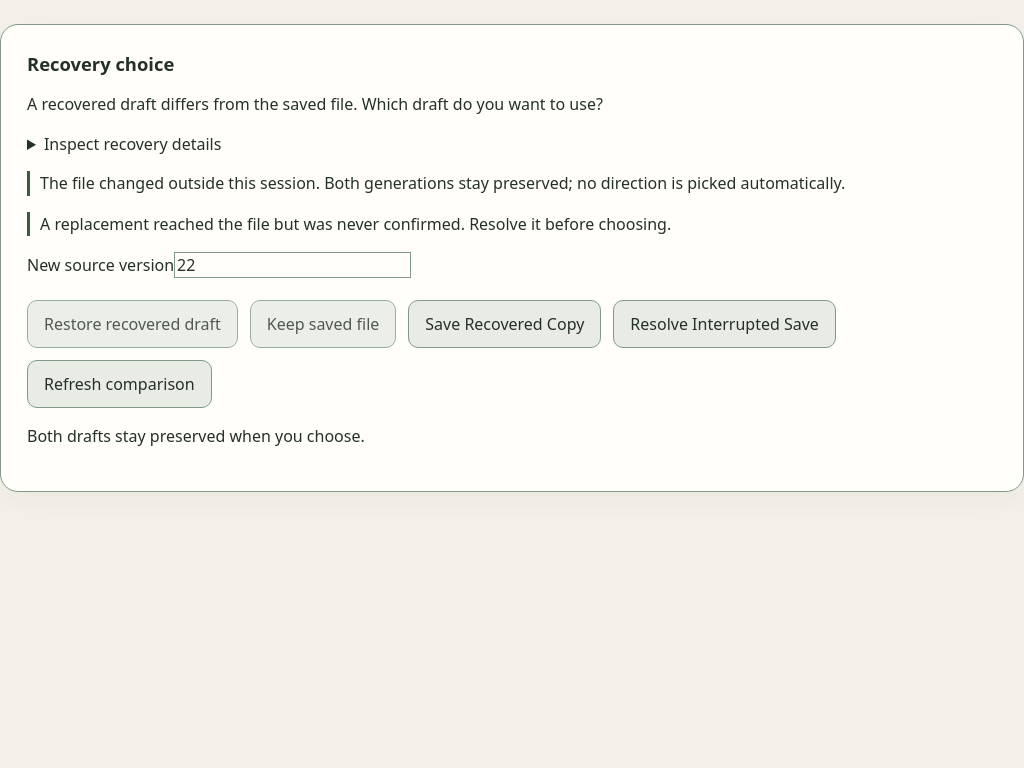
Test case: explicit recovery choices › blocks adoption on external divergence and explains a stuck transaction
This screenshot has width=1024, height=768.
Expected: the text "changed outside this session" is shown, [40,172,845,194]
Expected: the button "Restore recovered draft" is disabled, [27,300,238,348]
Step 1. Click the button "Resolve Interrupted Save" → (725, 324), box [613,300,836,348]
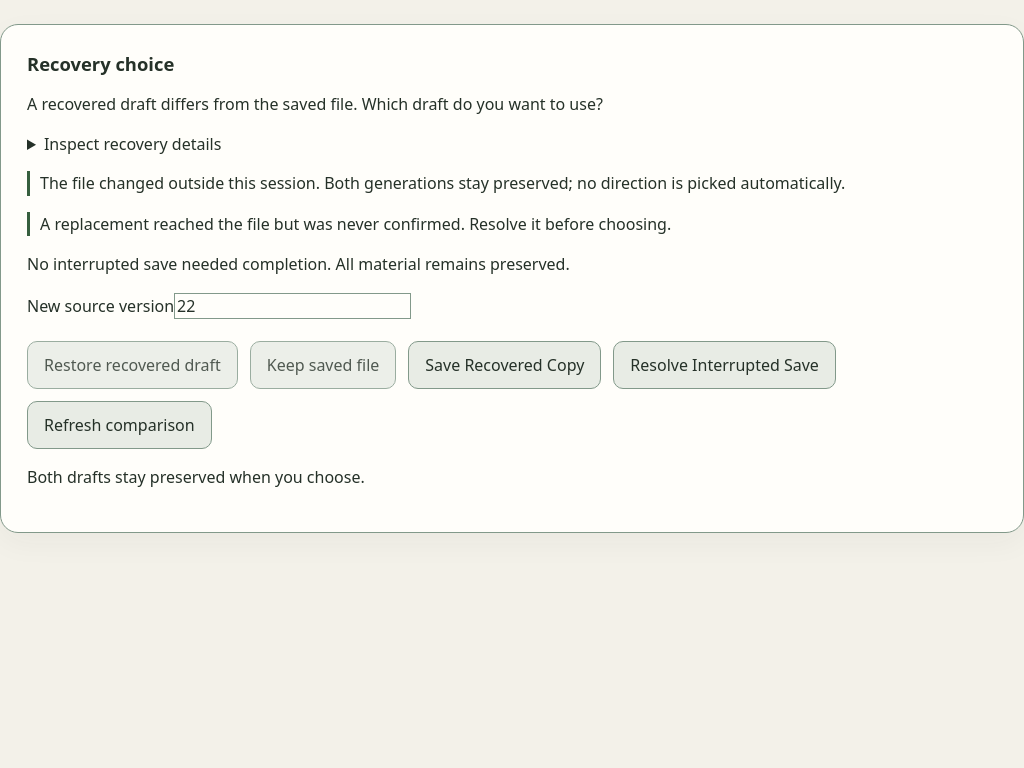
Expected: the text "No interrupted save needed completion. All material remains preserved." is shown, [27,253,570,275]
